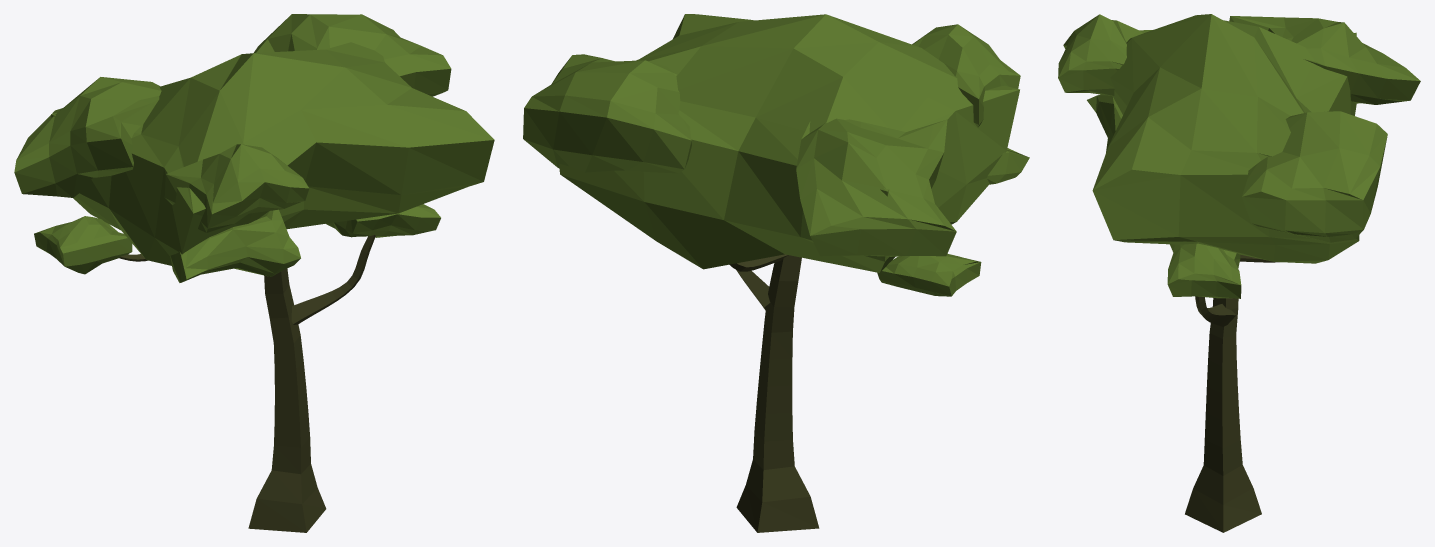
The model's file is Castanheira_lvl10-15.glb.
The picture shows the model from 3 angles, left to right: view 1: azimuth 30°, elevation 25°; view 2: azimuth 150°, elevation 25°; view 3: azimuth 270°, elevation 25°; orthographic projection. The views are drawn at different scales.
Visible parts, largest first — view 1: Castanheira_lvl10-15; view 2: Castanheira_lvl10-15; view 3: Castanheira_lvl10-15.
Part boxes in pixels (x1,y1,x2,y2): Castanheira_lvl10-15: (14, 14, 494, 532); Castanheira_lvl10-15: (523, 14, 1029, 532); Castanheira_lvl10-15: (1058, 14, 1420, 532).
Bounding box in the file's own units: 0.2085 × 0.2406 × 0.1644.
